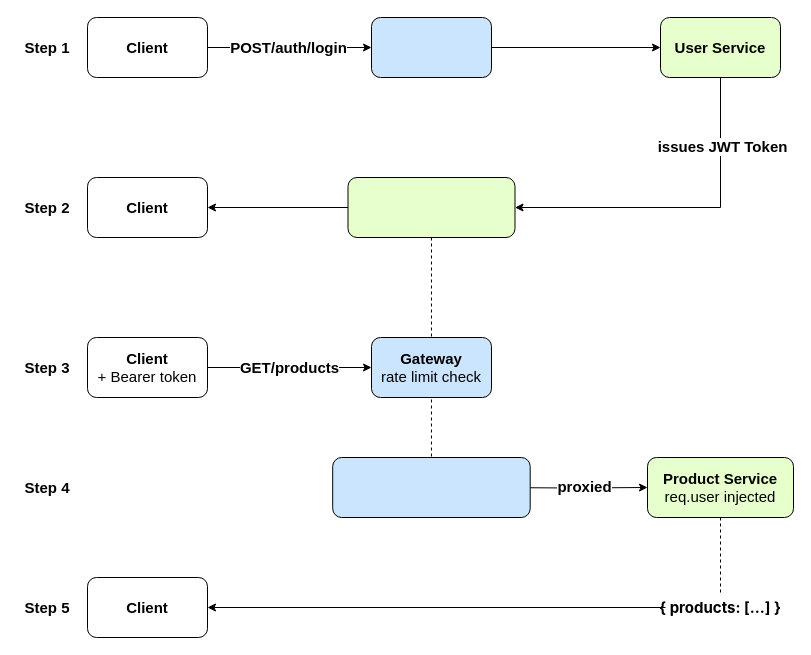
Some shapes in this 811 by 655 pixel diagram are drawn without their labels. Each missing label, with the box of its shape:
Gateway: (370, 16, 492, 78)
verifyToken() HMAC-SHA256 check: (332, 456, 530, 518)
{ token: "eyJ..." }: (347, 176, 515, 238)
